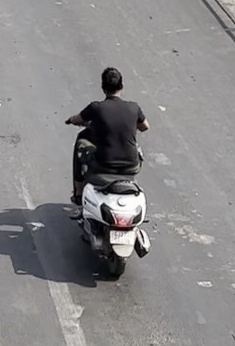BikeWithRider: (62, 66, 152, 279)
NoHelmet: (97, 67, 125, 100)
